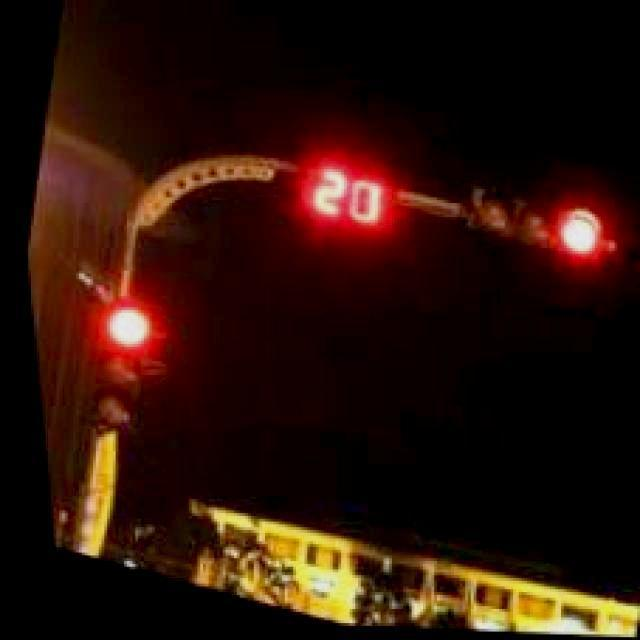red_light: (62, 254, 182, 412), (522, 158, 628, 300)
